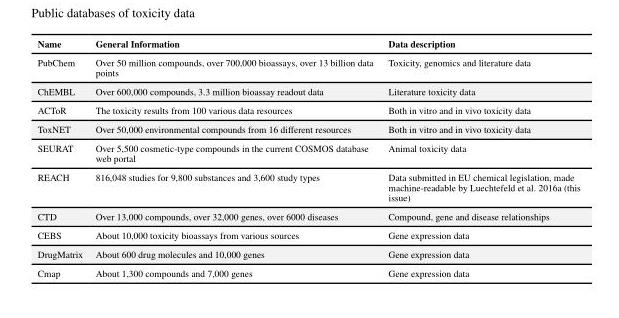table: (36, 36, 579, 278)
table column: (88, 36, 380, 278), (380, 36, 579, 278), (36, 36, 88, 278)
table column header: (36, 36, 579, 52)
table row: (36, 166, 579, 206), (36, 52, 579, 81), (36, 137, 579, 166), (36, 99, 579, 118), (36, 118, 579, 137), (36, 224, 579, 243), (36, 243, 579, 262), (36, 81, 579, 99), (36, 206, 579, 224), (36, 36, 579, 52), (36, 262, 579, 278)
